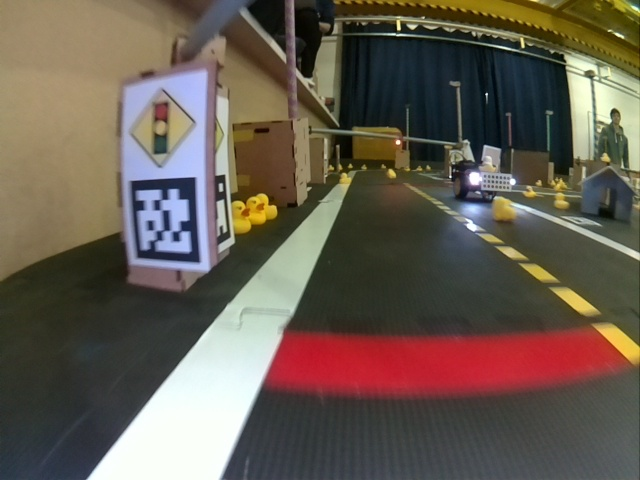Duckie: (234, 201, 251, 235), (259, 193, 278, 219), (247, 199, 265, 226), (491, 203, 514, 222), (481, 158, 495, 172), (554, 196, 568, 209), (525, 186, 535, 197), (387, 171, 397, 179), (602, 153, 610, 161)
Duckiebot: (451, 160, 515, 201)
QR code: (128, 176, 200, 263)
Signal sign: (128, 85, 196, 171)
